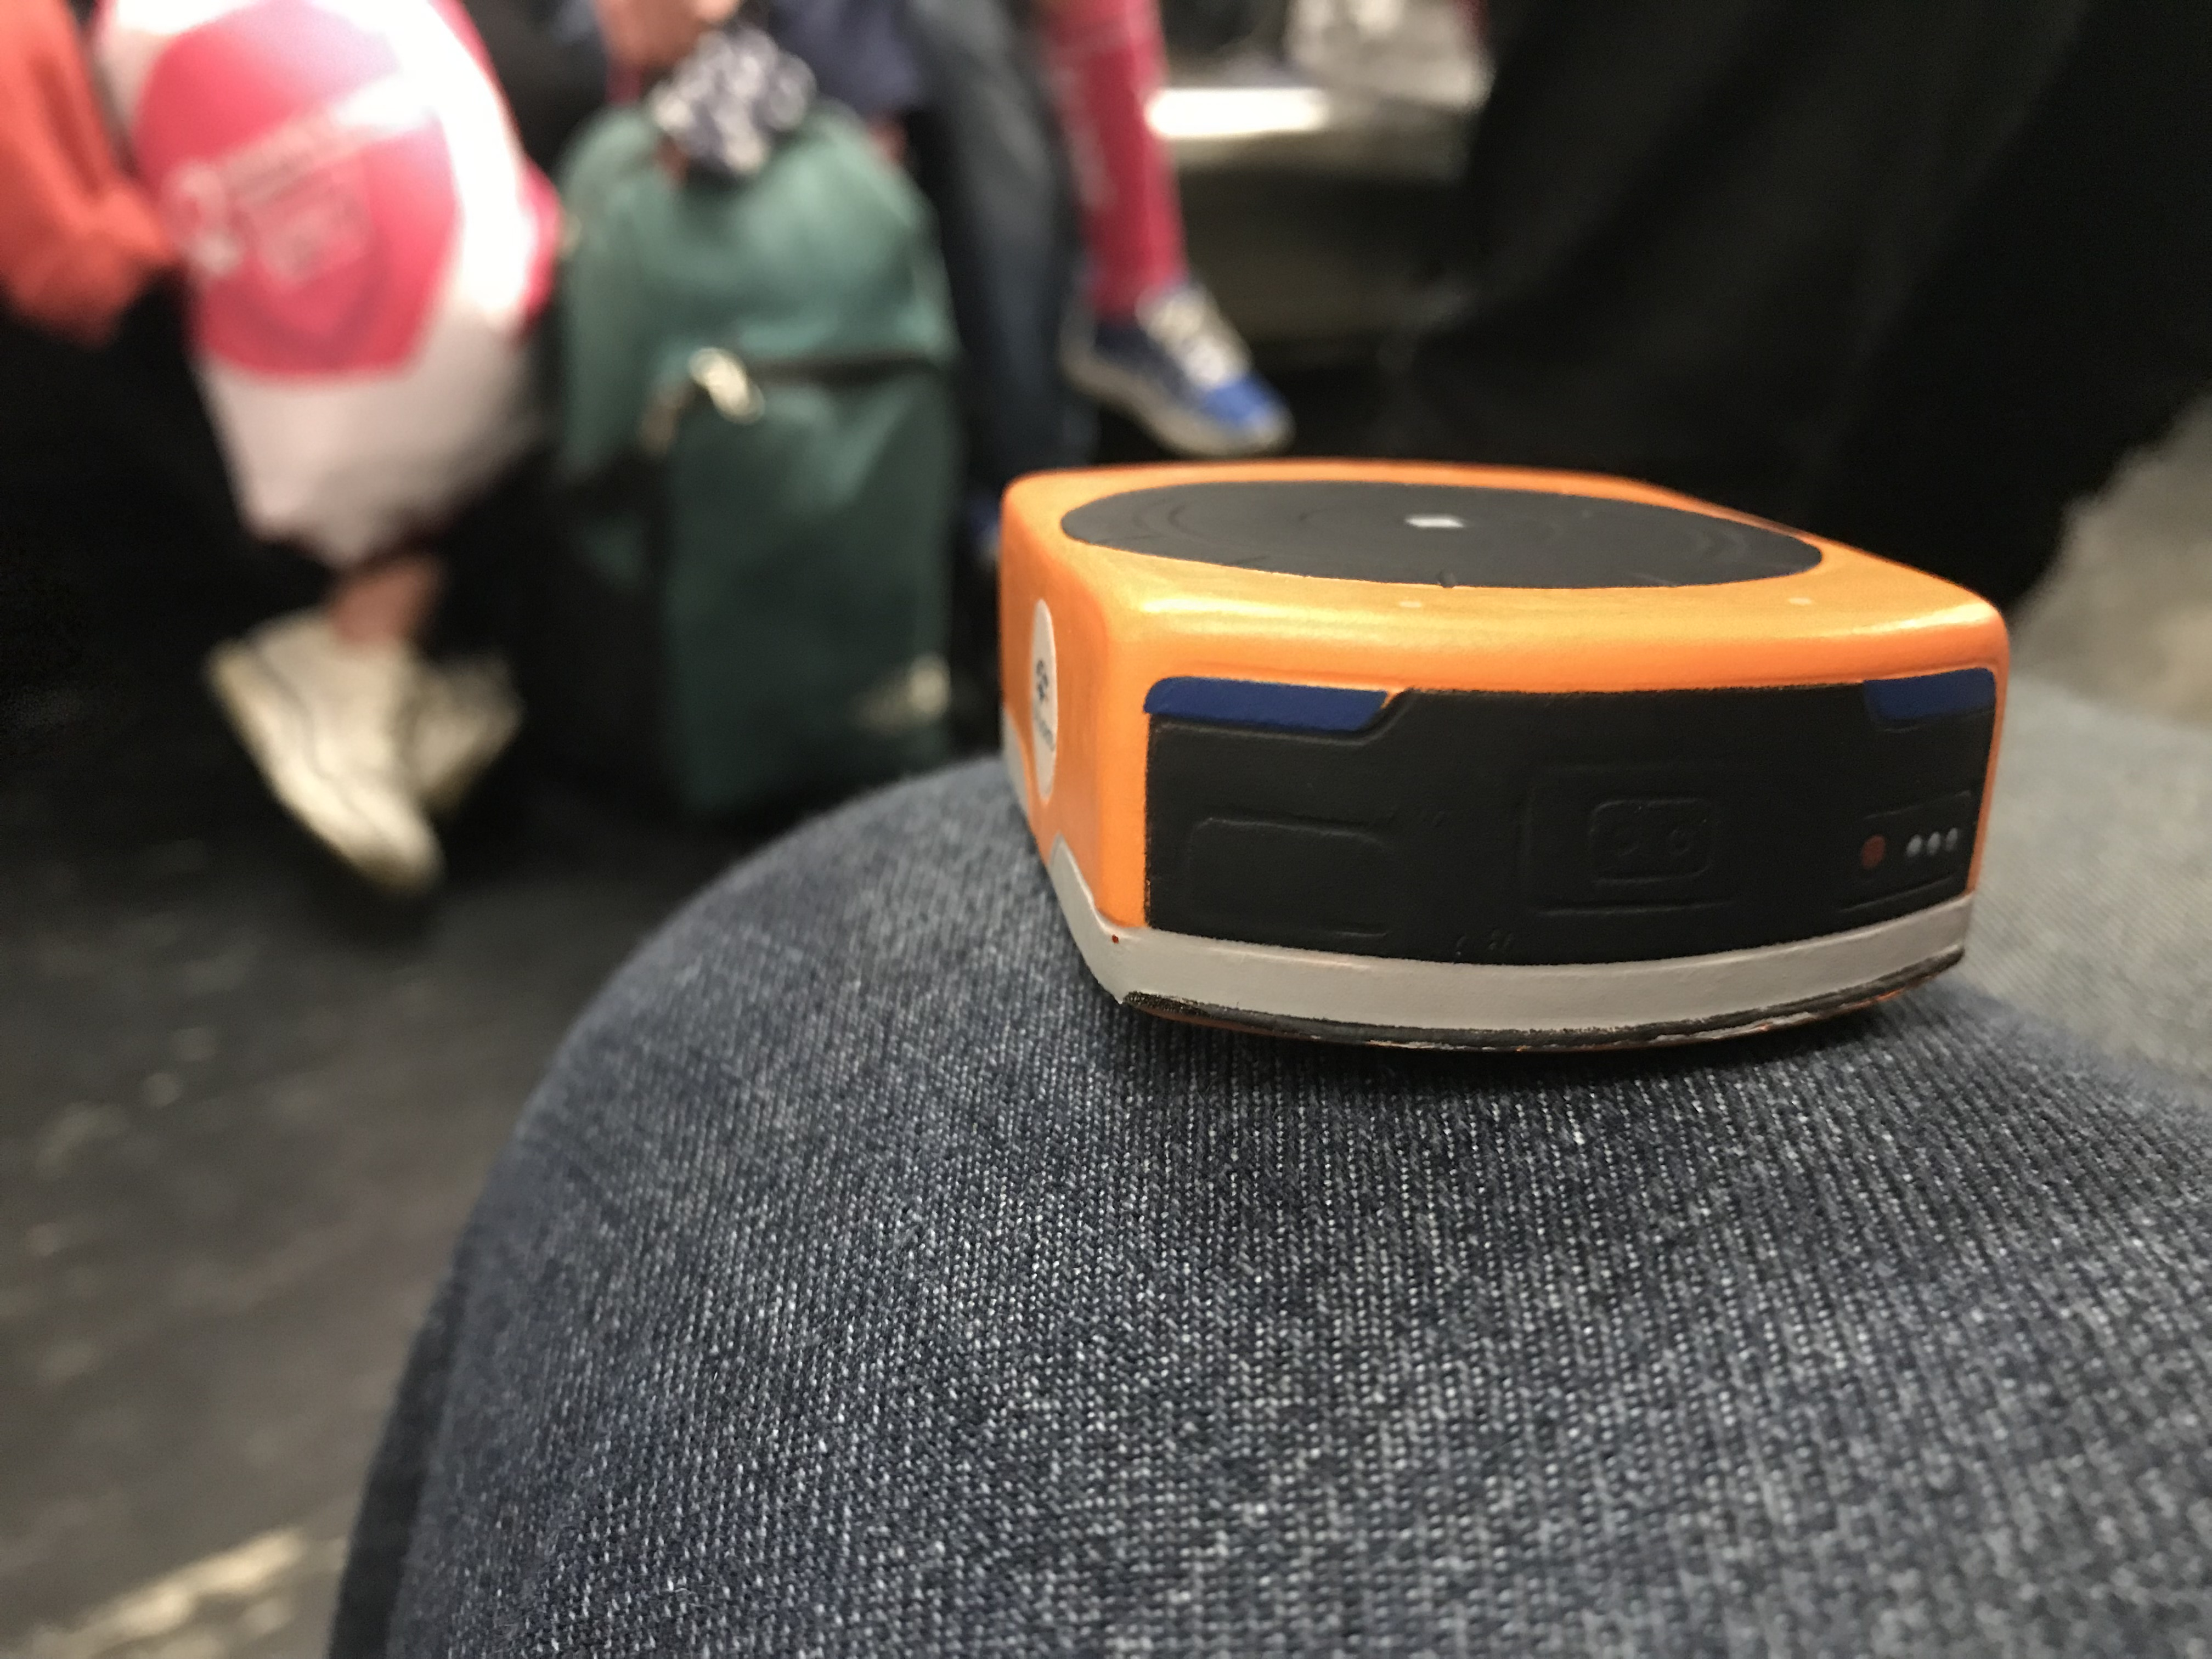amazon_bot: (914, 418, 2052, 1093)
